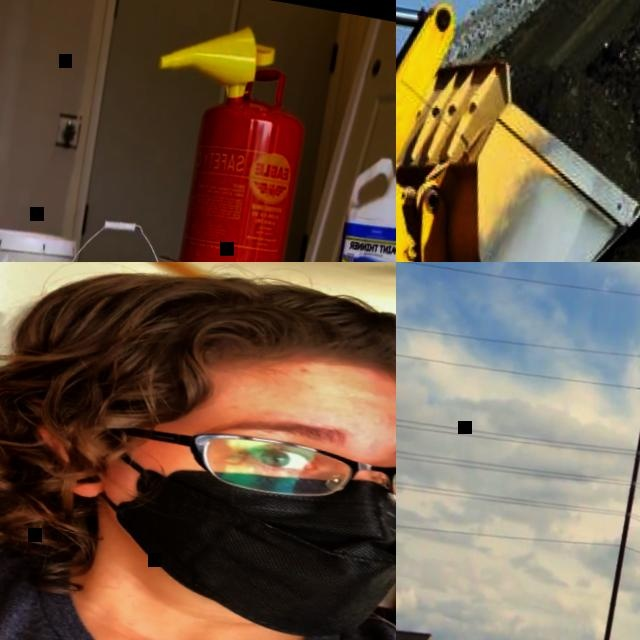Mask: (76, 436, 396, 640)
NO-Hardhat: (14, 262, 396, 431)
NO-Safety Vest: (0, 517, 396, 640)
Person: (0, 262, 396, 640)
machinery: (396, 0, 640, 262)
